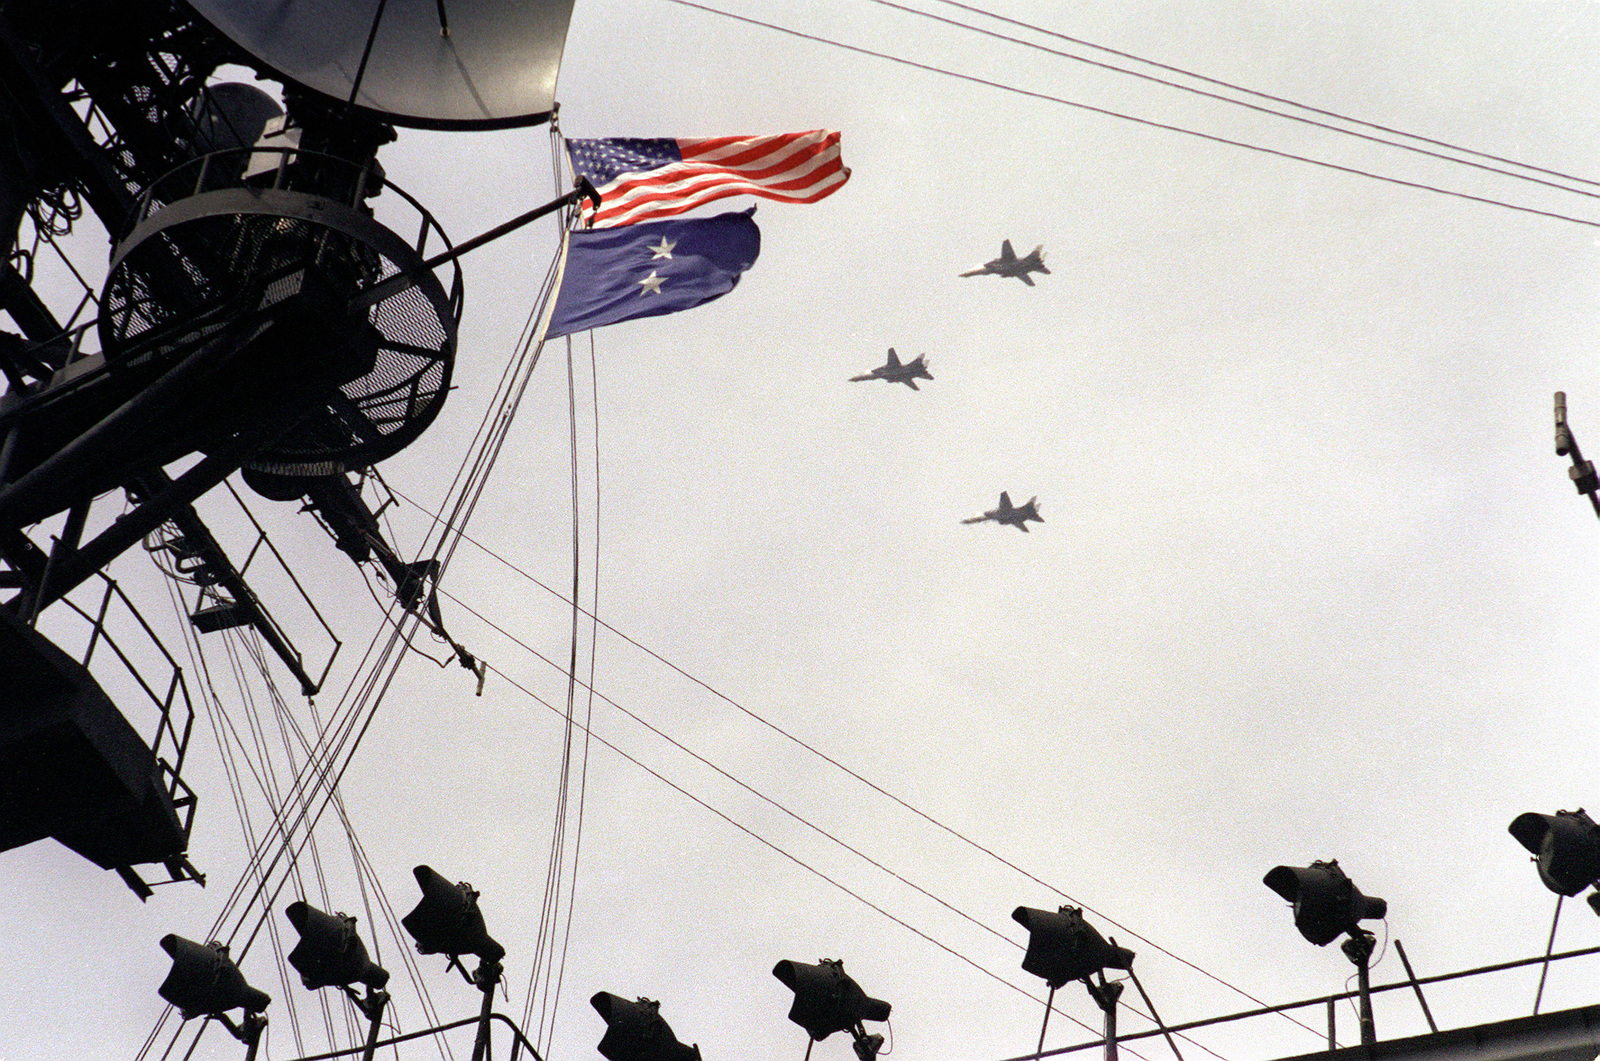F14: (957, 238, 1052, 287), (958, 490, 1046, 534), (847, 347, 934, 391)
